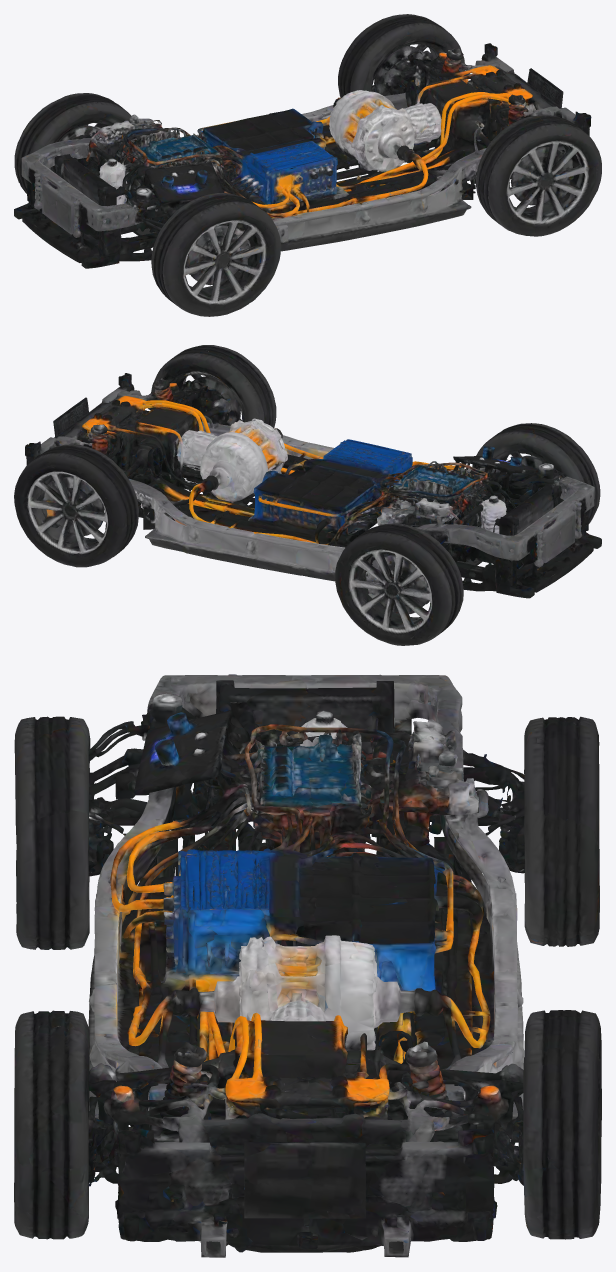
File: motorplus.glb
3 views of the same model, one above another, from view 1: azimuth 30°, elevation 25°; view 2: azimuth 150°, elevation 25°; view 3: azimuth 270°, elevation 25° (orthographic). The views are drawn at different scales.
Size of the model in its own units: 1.9 by 0.4047 by 1.02.
1 material, 1 textured.
